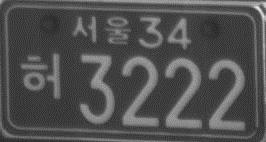2: (206, 57, 247, 132), (121, 54, 160, 129), (165, 57, 204, 129)
3: (78, 51, 116, 126), (137, 13, 162, 49)
4: (165, 17, 191, 51)
서울_O: (71, 13, 132, 47)
허: (19, 52, 63, 101)
